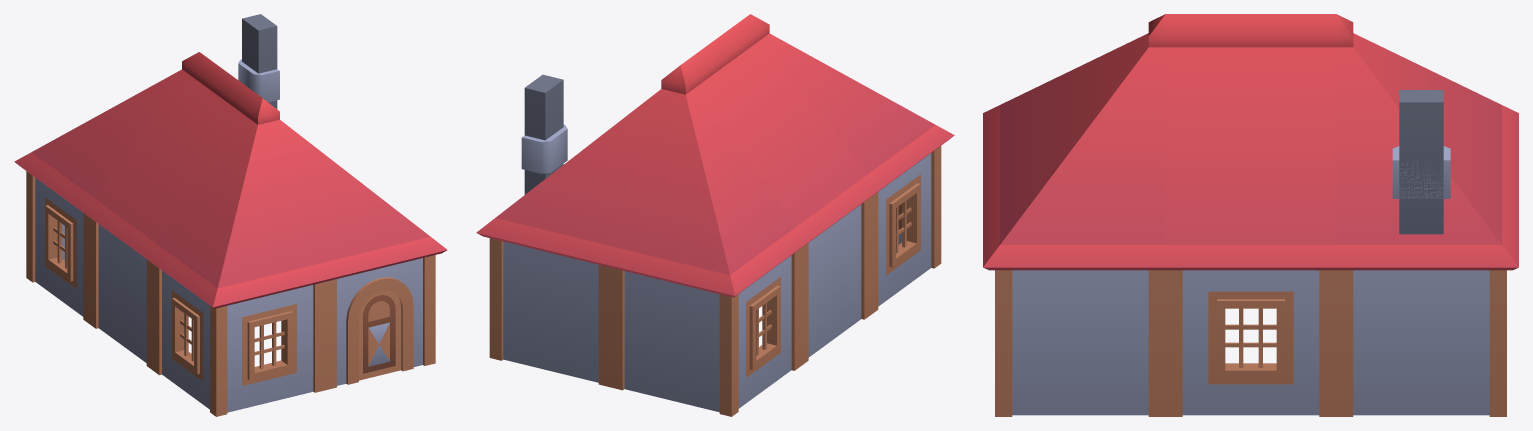
File: stone_house.glb
The picture shows the model from 3 angles, left to right: view 1: azimuth 30°, elevation 25°; view 2: azimuth 150°, elevation 25°; view 3: azimuth 270°, elevation 25°; orthographic projection. The views are drawn at different scales.
Parts seen in each view (by area): view 1: stone_house; view 2: stone_house; view 3: stone_house.
Boxes of the visible parts, x1,y1,x2,y2 form: stone_house: [14, 14, 447, 416]; stone_house: [476, 14, 954, 416]; stone_house: [983, 14, 1518, 416].
Bounding box in the file's own units: 6.42 × 6.42 × 9.42.
Materials: 17 (17 with a texture image).
